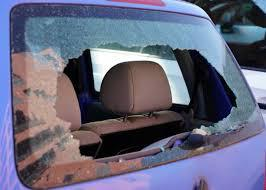Rear-windscreen-Damage: (9, 0, 262, 189)
